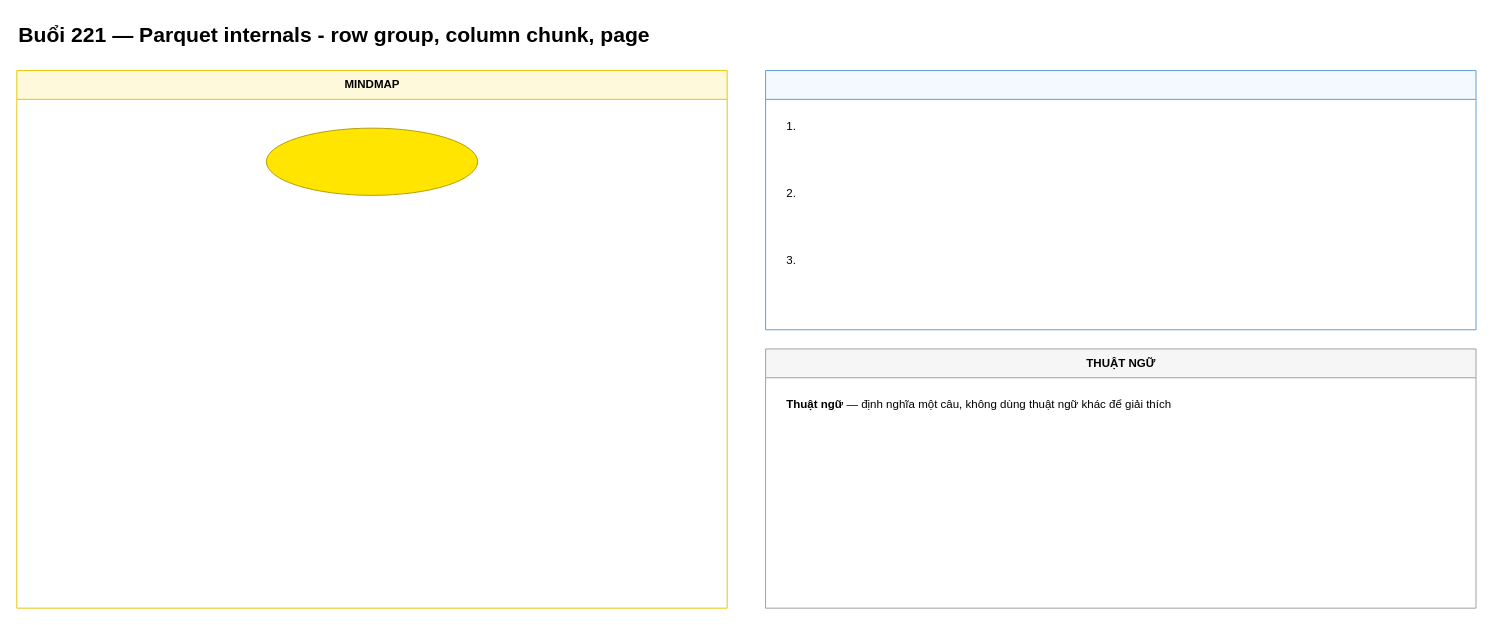
Image size: 1493x625. Some labels were removed from this diagram. The box of each missing label's shape, as (x1, y1, x2, y2) in pixels:
KEY TAKEAWAY — ba điều phải nhớ: (765, 70, 1476, 330)
Parquet internals - row group, column chunk, page: (265, 127, 478, 195)
